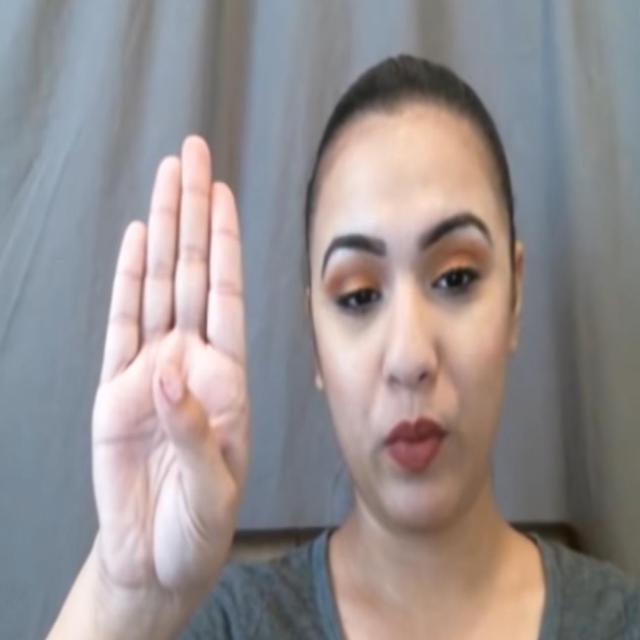B: (78, 132, 252, 590)
